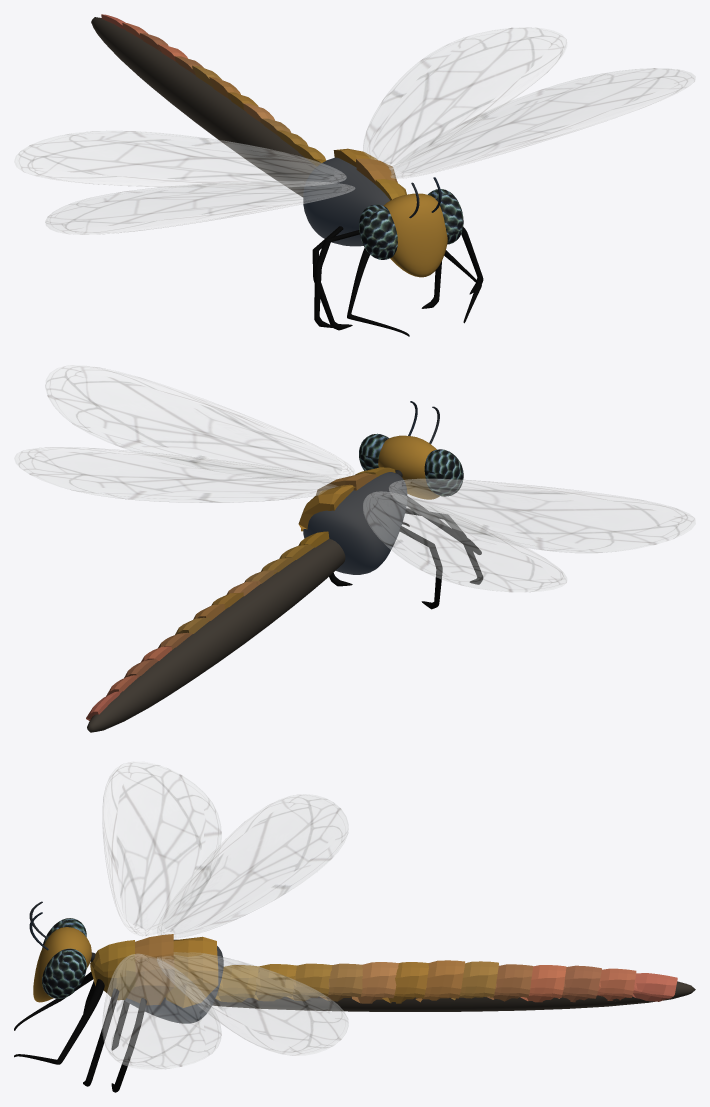
File: dragonflyModel.gltf
3 renders of one model, top to bottom at view 1: azimuth 30°, elevation 25°; view 2: azimuth 150°, elevation 25°; view 3: azimuth 270°, elevation 25°, orthographic.
Parts seen in each view (by area): view 1: Leftbackwing, Rightbackwing, Leftfrontwing, Rightfrontwing, Tail, Mainbody, Head, Eyes, BackLegs, Frontlegs, Frontarmor2; view 2: Leftfrontwing, Rightfrontwing, Leftbackwing, Rightbackwing, Tail, Mainbody, Head, Eyes, BackLegs, Frontarmor3; view 3: Rightfrontwing, Rightbackwing, Leftbackwing, Leftfrontwing, Tail, Frontarmor3, Frontarmor2, Eyes, Frontarmor1, BackLegs, Head, Backarmor1.001 (+14 smaller).
Part boxes in pixels (bbox=[...]): Leftbackwing: bbox=[363, 27, 566, 169]; Rightbackwing: bbox=[14, 131, 346, 187]; Leftfrontwing: bbox=[390, 68, 695, 178]; Rightfrontwing: bbox=[45, 181, 354, 234]; Tail: bbox=[91, 17, 316, 196]; Mainbody: bbox=[303, 157, 389, 246]; Head: bbox=[383, 193, 447, 277]; Eyes: bbox=[359, 189, 463, 259]; BackLegs: bbox=[312, 226, 483, 330]; Frontlegs: bbox=[347, 248, 481, 336]; Frontarmor2: bbox=[356, 158, 397, 184]; Leftfrontwing: bbox=[45, 365, 354, 481]; Rightfrontwing: bbox=[389, 479, 695, 552]; Leftbackwing: bbox=[14, 447, 337, 502]; Rightbackwing: bbox=[363, 491, 566, 591]; Tail: bbox=[87, 538, 345, 732]; Mainbody: bbox=[303, 472, 407, 574]; Head: bbox=[378, 435, 439, 499]; Eyes: bbox=[359, 433, 463, 496]; BackLegs: bbox=[329, 508, 483, 609]; Frontarmor3: bbox=[298, 484, 355, 531]; Rightfrontwing: bbox=[102, 761, 221, 935]; Rightbackwing: bbox=[157, 794, 348, 938]; Leftbackwing: bbox=[157, 952, 348, 1055]; Leftfrontwing: bbox=[102, 954, 221, 1069]; Tail: bbox=[212, 981, 695, 1011]; Frontarmor3: bbox=[165, 936, 218, 1007]; Frontarmor2: bbox=[127, 934, 174, 1005]; Eyes: bbox=[42, 918, 86, 998]; Frontarmor1: bbox=[90, 940, 135, 1000]; BackLegs: bbox=[83, 981, 146, 1092]; Head: bbox=[33, 927, 91, 1002]; Backarmor1.001: bbox=[415, 960, 464, 1002].
Size of the model in its own units: 14.66 by 3.62 by 13.73.
28 materials, 5 textured.
